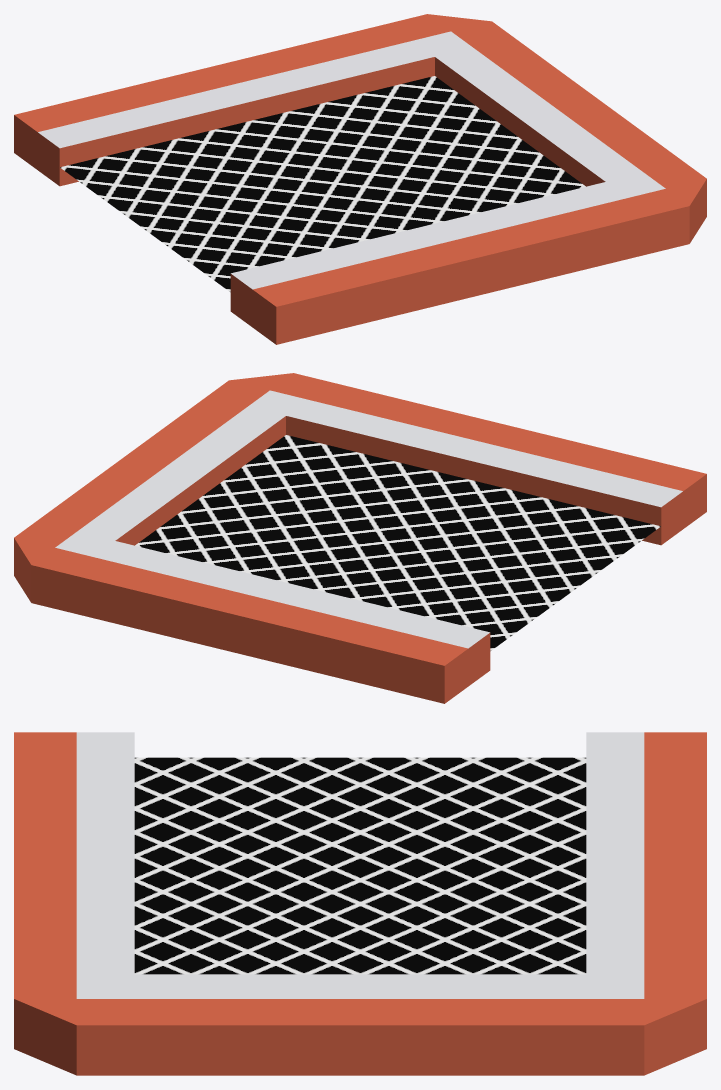
File: metalTileConnectEnd.glb
The picture shows the model from 3 angles, top to bottom: view 1: azimuth 30°, elevation 25°; view 2: azimuth 150°, elevation 25°; view 3: azimuth 270°, elevation 25°; orthographic projection. The views are drawn at different scales.
Parts seen in each view (by area): view 1: metalTileConnectEnd; view 2: metalTileConnectEnd; view 3: metalTileConnectEnd.
Part boxes in pixels (x1=…): metalTileConnectEnd: x1=14, y1=14, x2=706, y2=344; metalTileConnectEnd: x1=14, y1=373, x2=706, y2=703; metalTileConnectEnd: x1=14, y1=732, x2=706, y2=1075.
Bounding box in the file's own units: 10 × 0.8 × 10.
3 materials, 1 textured.
